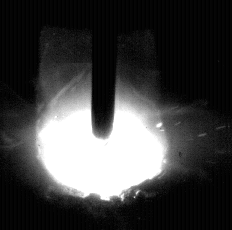arame: (92, 0, 116, 138)
poca: (35, 0, 167, 230)
